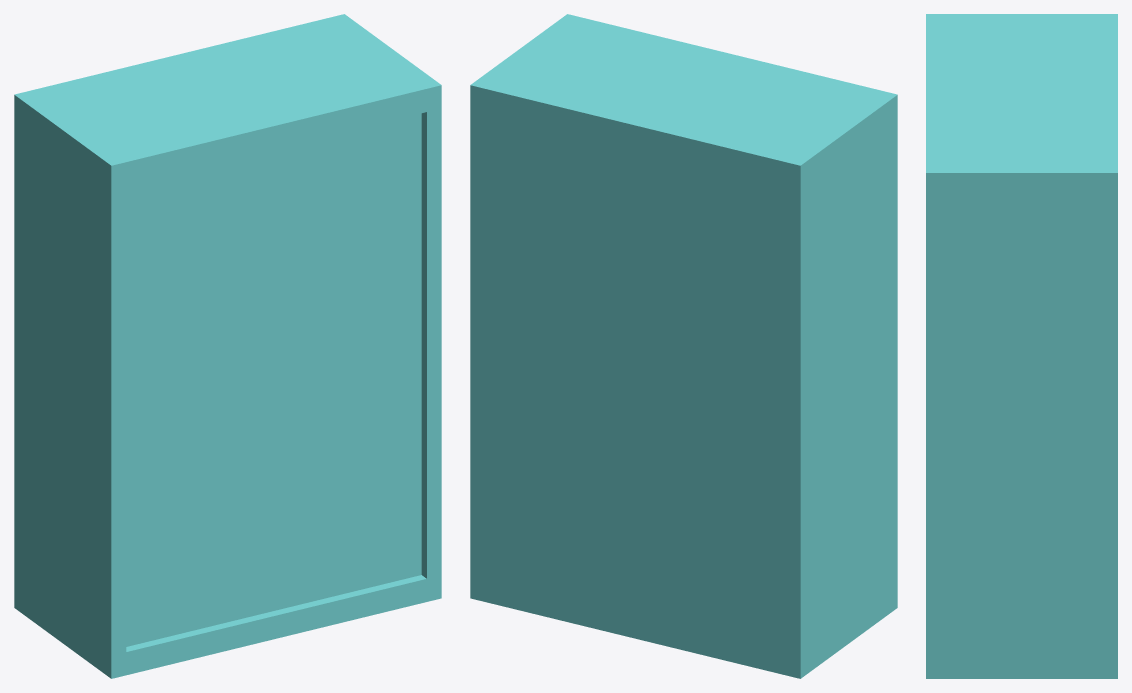
Rendered from Freezer.fbx.
3 renders of one model, left to right at view 1: azimuth 30°, elevation 25°; view 2: azimuth 150°, elevation 25°; view 3: azimuth 270°, elevation 25°, orthographic.
Parts seen in each view (by area): view 1: Cube; view 2: Cube; view 3: Cube.
Part boxes in pixels (x1,y1,x2,y2): Cube: (14,14,441,678); Cube: (470,14,897,678); Cube: (926,14,1117,678).
Size of the model in its own units: 229 by 341 by 117.
